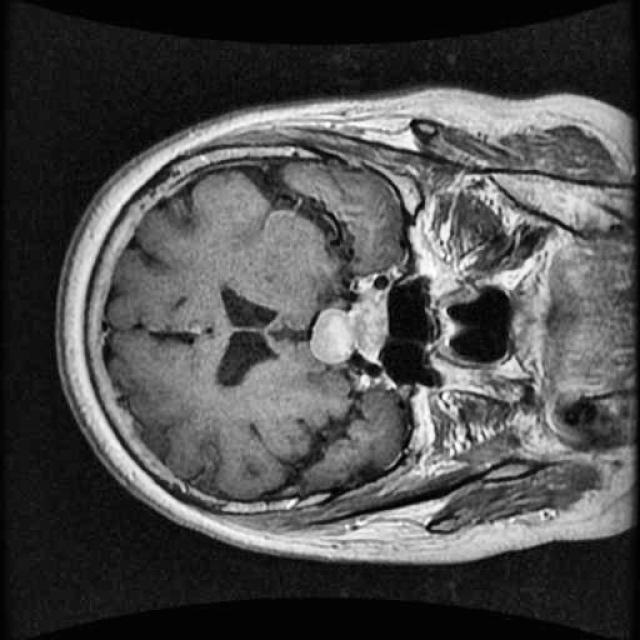Tumor: (302, 285, 404, 375)
